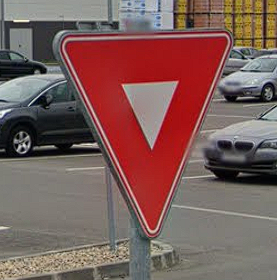cedeaza: (51, 26, 233, 242)
